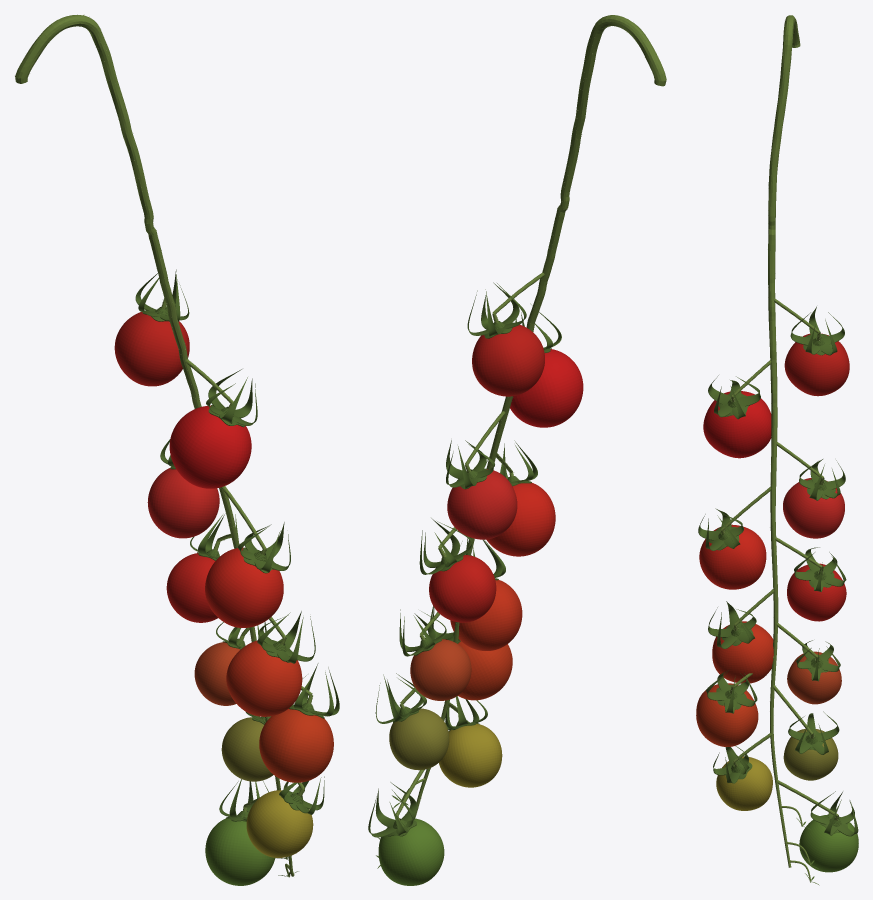
Rendered from tomato_master_v10_cluster_curve_red.glb.
The picture shows the model from 3 angles, left to right: view 1: azimuth 30°, elevation 25°; view 2: azimuth 150°, elevation 25°; view 3: azimuth 270°, elevation 25°; orthographic projection. The views are drawn at different scales.
Parts seen in each view (by area): view 1: Fruit_02, Fruit_04, Fruit_08, Fruit_06, Fruit_01, Truss_01_Peduncle, Fruit_03, Fruit_10, Fruit_11, Fruit_05, Rachis, Fruit_09 (+1 smaller); view 2: Fruit_01, Fruit_02, Fruit_03, Fruit_05, Fruit_11, Truss_01_Peduncle, Fruit_10, Fruit_04, Fruit_07, Fruit_09, Fruit_06, Fruit_08 (+1 smaller); view 3: Rachis, Fruit_02, Fruit_04, Fruit_01, Fruit_03, Fruit_06, Fruit_08, Fruit_11, Truss_01_Peduncle, Fruit_05, Fruit_10, Fruit_07 (+1 smaller).
Boxes of the visible parts, left/top/right/bottom form: Fruit_02: left=169, top=405, right=251, bottom=488; Fruit_04: left=205, top=547, right=283, bottom=627; Fruit_08: left=259, top=709, right=333, bottom=782; Fruit_06: left=226, top=640, right=302, bottom=716; Fruit_01: left=114, top=312, right=189, bottom=386; Truss_01_Peduncle: left=15, top=14, right=153, bottom=232; Fruit_03: left=147, top=468, right=219, bottom=538; Fruit_10: left=246, top=790, right=313, bottom=857; Fruit_11: left=205, top=818, right=275, bottom=885; Fruit_05: left=166, top=553, right=217, bottom=622; Rachis: left=146, top=227, right=294, bottom=876; Fruit_09: left=221, top=717, right=273, bottom=781; Fruit_01: left=472, top=324, right=544, bottom=396; Fruit_02: left=510, top=349, right=583, bottom=427; Fruit_03: left=447, top=469, right=517, bottom=539; Fruit_05: left=429, top=555, right=496, bottom=622; Fruit_11: left=378, top=818, right=444, bottom=885; Truss_01_Peduncle: left=560, top=15, right=666, bottom=209; Fruit_10: left=439, top=723, right=502, bottom=787; Fruit_04: left=486, top=483, right=555, bottom=556; Fruit_07: left=410, top=639, right=471, bottom=700; Fruit_09: left=389, top=708, right=449, bottom=770; Fruit_06: left=450, top=580, right=522, bottom=650; Fruit_08: left=458, top=641, right=512, bottom=700; Rachis: left=768, top=229, right=791, bottom=867; Fruit_02: left=703, top=391, right=771, bottom=458; Fruit_04: left=699, top=524, right=766, bottom=589; Fruit_01: left=784, top=333, right=849, bottom=396; Fruit_03: left=783, top=478, right=844, bottom=538; Fruit_06: left=712, top=621, right=773, bottom=683; Fruit_08: left=696, top=683, right=758, bottom=746; Fruit_11: left=799, top=814, right=858, bottom=872; Truss_01_Peduncle: left=768, top=15, right=800, bottom=229; Fruit_05: left=787, top=563, right=846, bottom=621; Fruit_10: left=716, top=756, right=772, bottom=810; Fruit_07: left=787, top=651, right=841, bottom=704.
Size of the model in its own units: 0.2174 by 0.658 by 0.1253.
